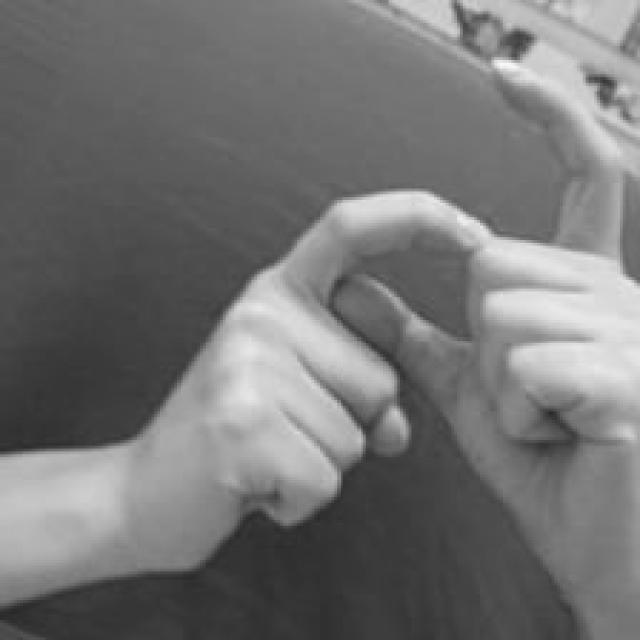G: (139, 51, 640, 572)
